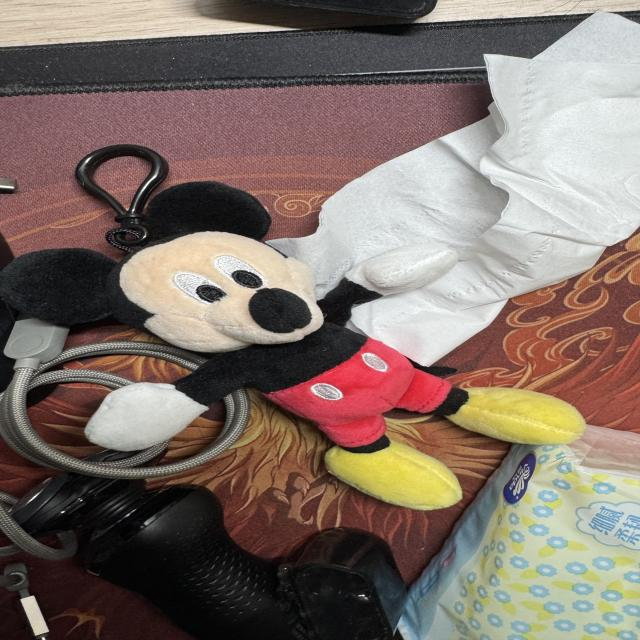mickey: (0, 182, 584, 509)
tissue: (270, 13, 639, 364)
